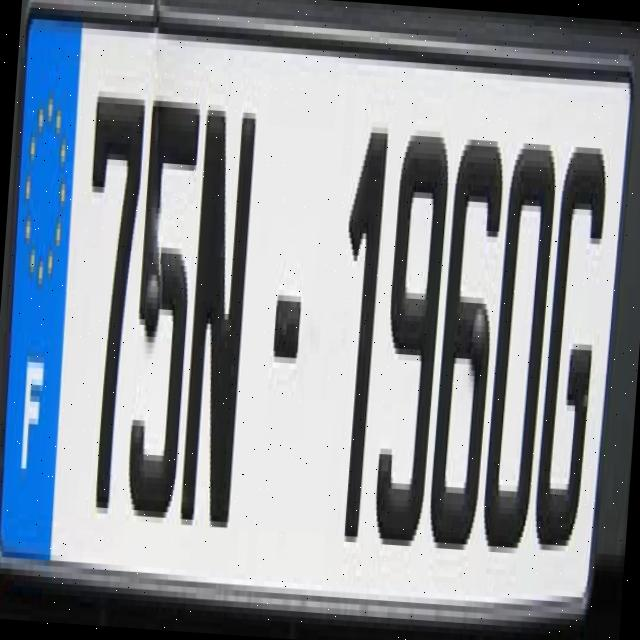EU: (0, 11, 634, 611)
France: (0, 6, 82, 567)
